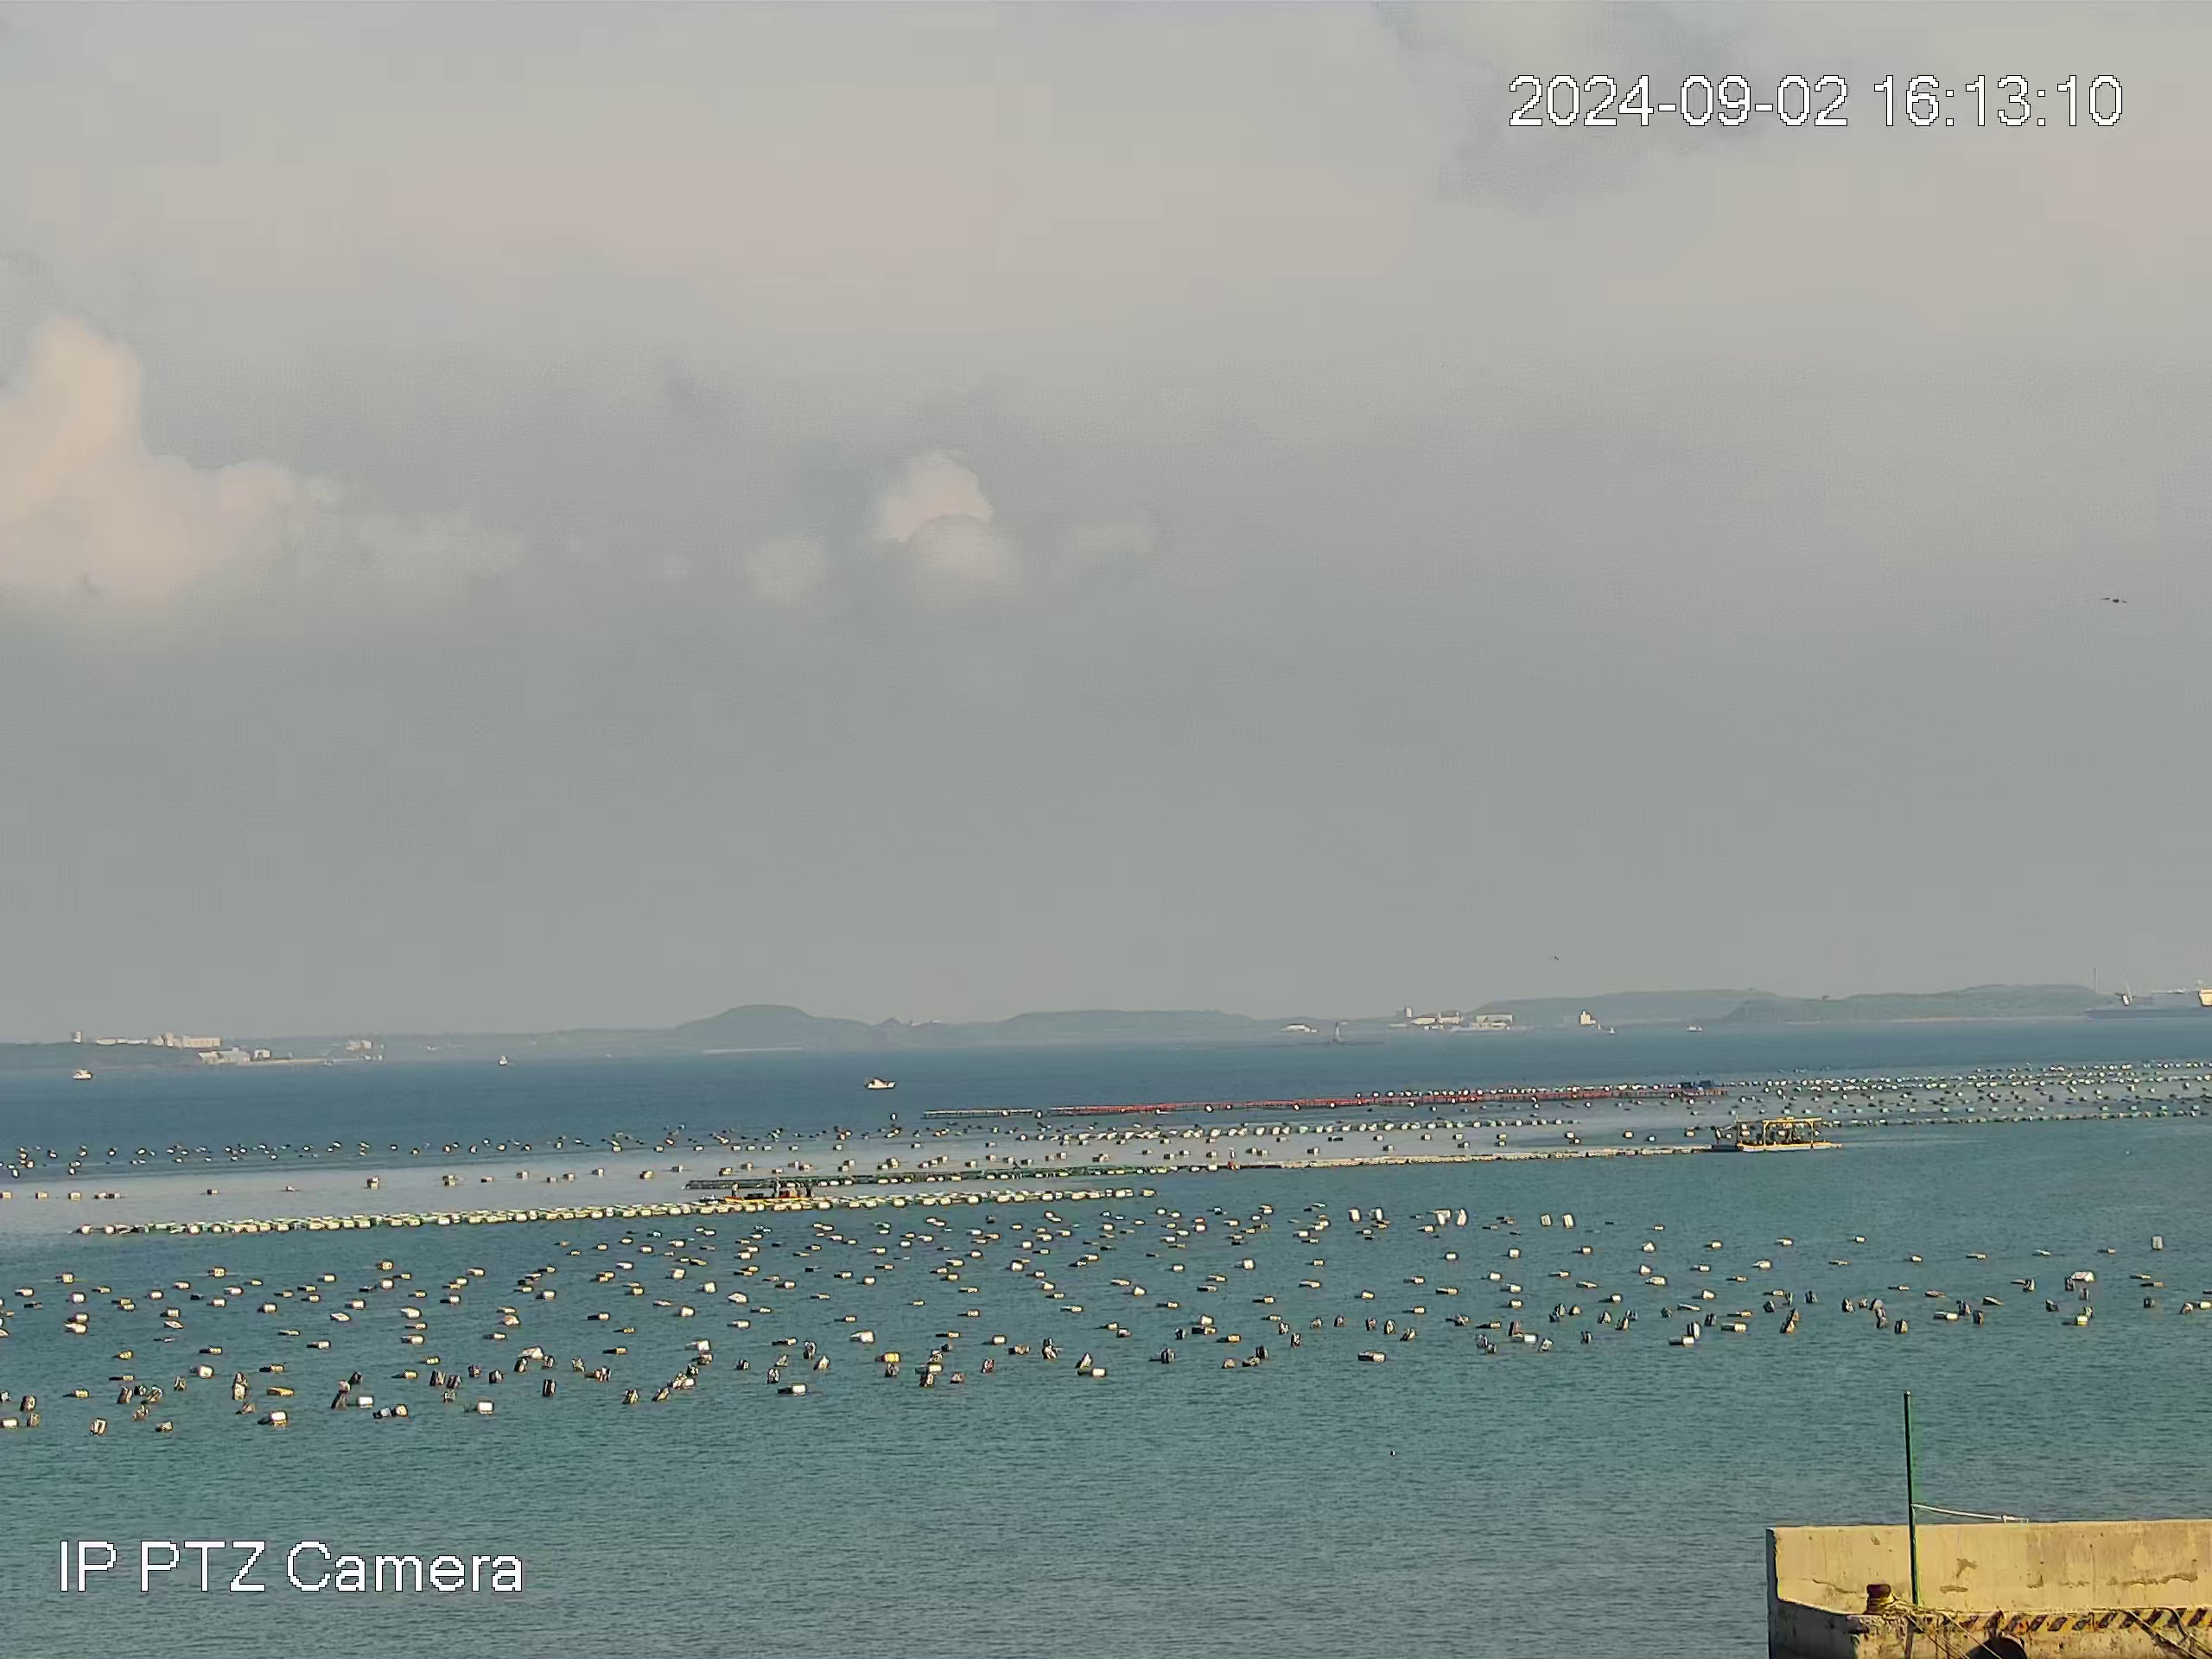boat: (1735, 1115, 1832, 1154), (721, 1178, 815, 1204), (864, 1077, 897, 1091)
